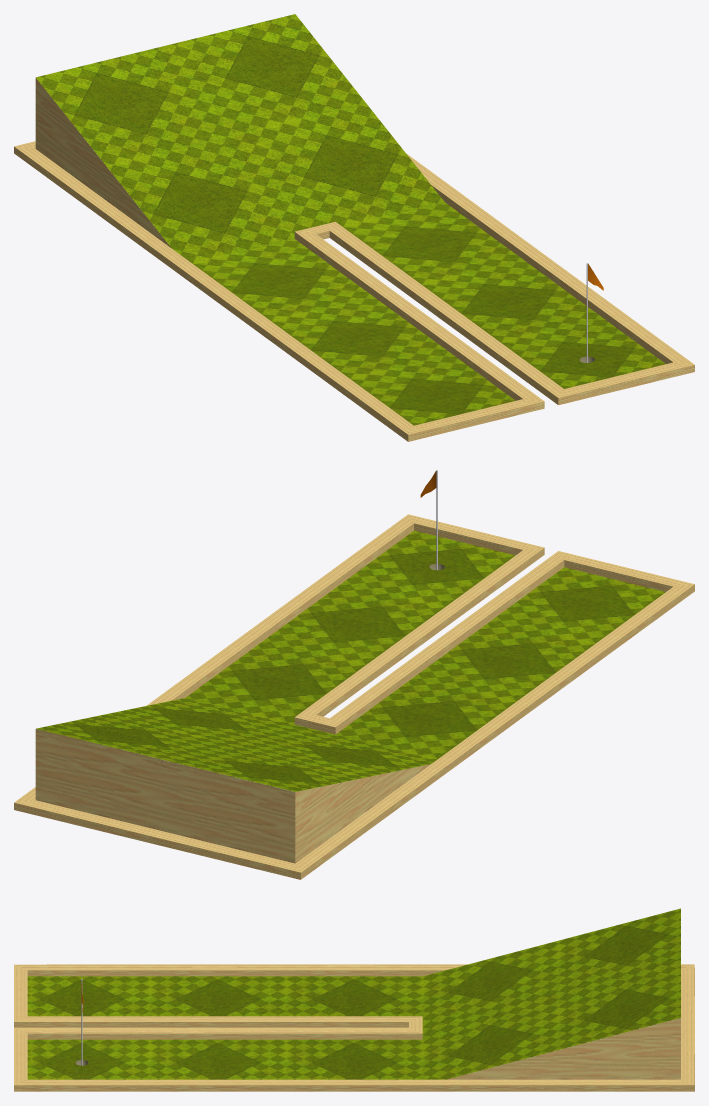
File: course1_hole16.fbx
3 renders of one model, top to bottom at view 1: azimuth 30°, elevation 25°; view 2: azimuth 150°, elevation 25°; view 3: azimuth 270°, elevation 25°, orthographic. The views are drawn at different scales.
Visible parts, largest first — view 1: course1_hole16_ground, course1_hole16_walls; view 2: course1_hole16_ground, course1_hole16_walls; view 3: course1_hole16_ground, course1_hole16_walls.
Part boxes in pixels (bbox=[...]): course1_hole16_ground: bbox=[36, 14, 665, 425]; course1_hole16_walls: bbox=[14, 78, 694, 441]; course1_hole16_ground: bbox=[36, 530, 665, 791]; course1_hole16_walls: bbox=[14, 514, 694, 879]; course1_hole16_ground: bbox=[27, 908, 680, 1079]; course1_hole16_walls: bbox=[14, 964, 694, 1091].
Bounding box in the file's own units: 6.31 × 2.25 × 15.
